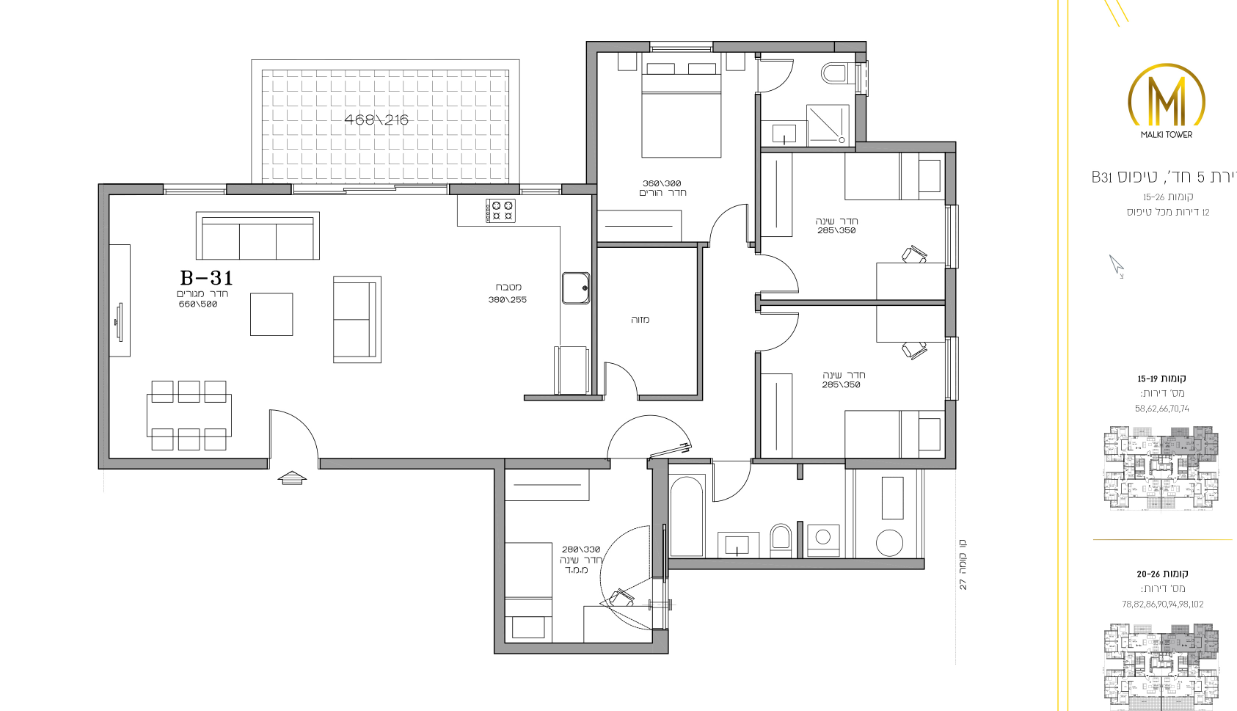door: (256, 390, 322, 447), (764, 304, 808, 358), (762, 243, 806, 297), (706, 181, 750, 235), (599, 338, 643, 392), (708, 465, 752, 519), (762, 54, 802, 99)
wall: (318, 457, 608, 468), (98, 182, 108, 468), (671, 557, 923, 568), (494, 477, 505, 655), (586, 39, 598, 184)
window: (291, 182, 450, 194), (946, 336, 960, 400), (945, 203, 959, 267), (648, 40, 714, 53), (163, 183, 224, 195), (520, 183, 561, 196)
